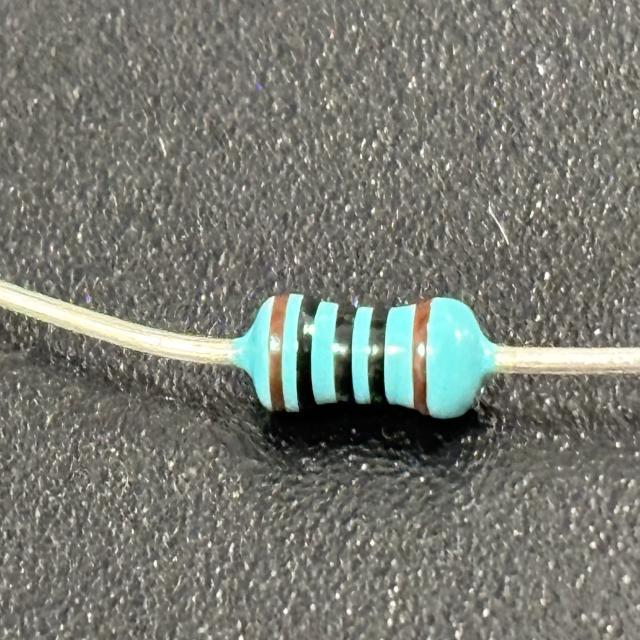resistor: (244, 284, 486, 425)
